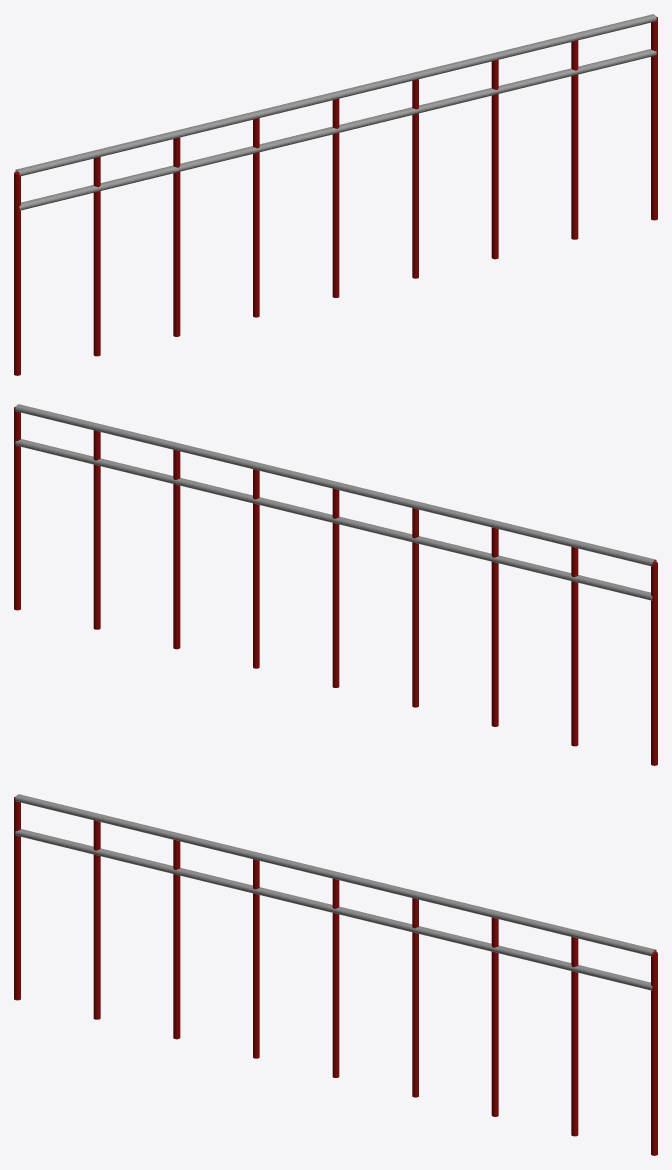
Rendered from Fenses.FBX.
3 renders of one model, top to bottom at view 1: azimuth 30°, elevation 25°; view 2: azimuth 150°, elevation 25°; view 3: azimuth 330°, elevation 25°, orthographic.
Parts seen in each view (by area): view 1: Shape002, Shape001; view 2: Shape002, Shape001; view 3: Shape002, Shape001.
Part boxes in pixels (x1,y1,x2,y2): Shape002: (14, 16, 657, 375); Shape001: (15, 14, 656, 210); Shape002: (14, 406, 657, 765); Shape001: (15, 404, 656, 600); Shape002: (14, 796, 657, 1155); Shape001: (15, 794, 656, 990).
Bounding box in the file's own units: 355 × 108 × 4.26.
